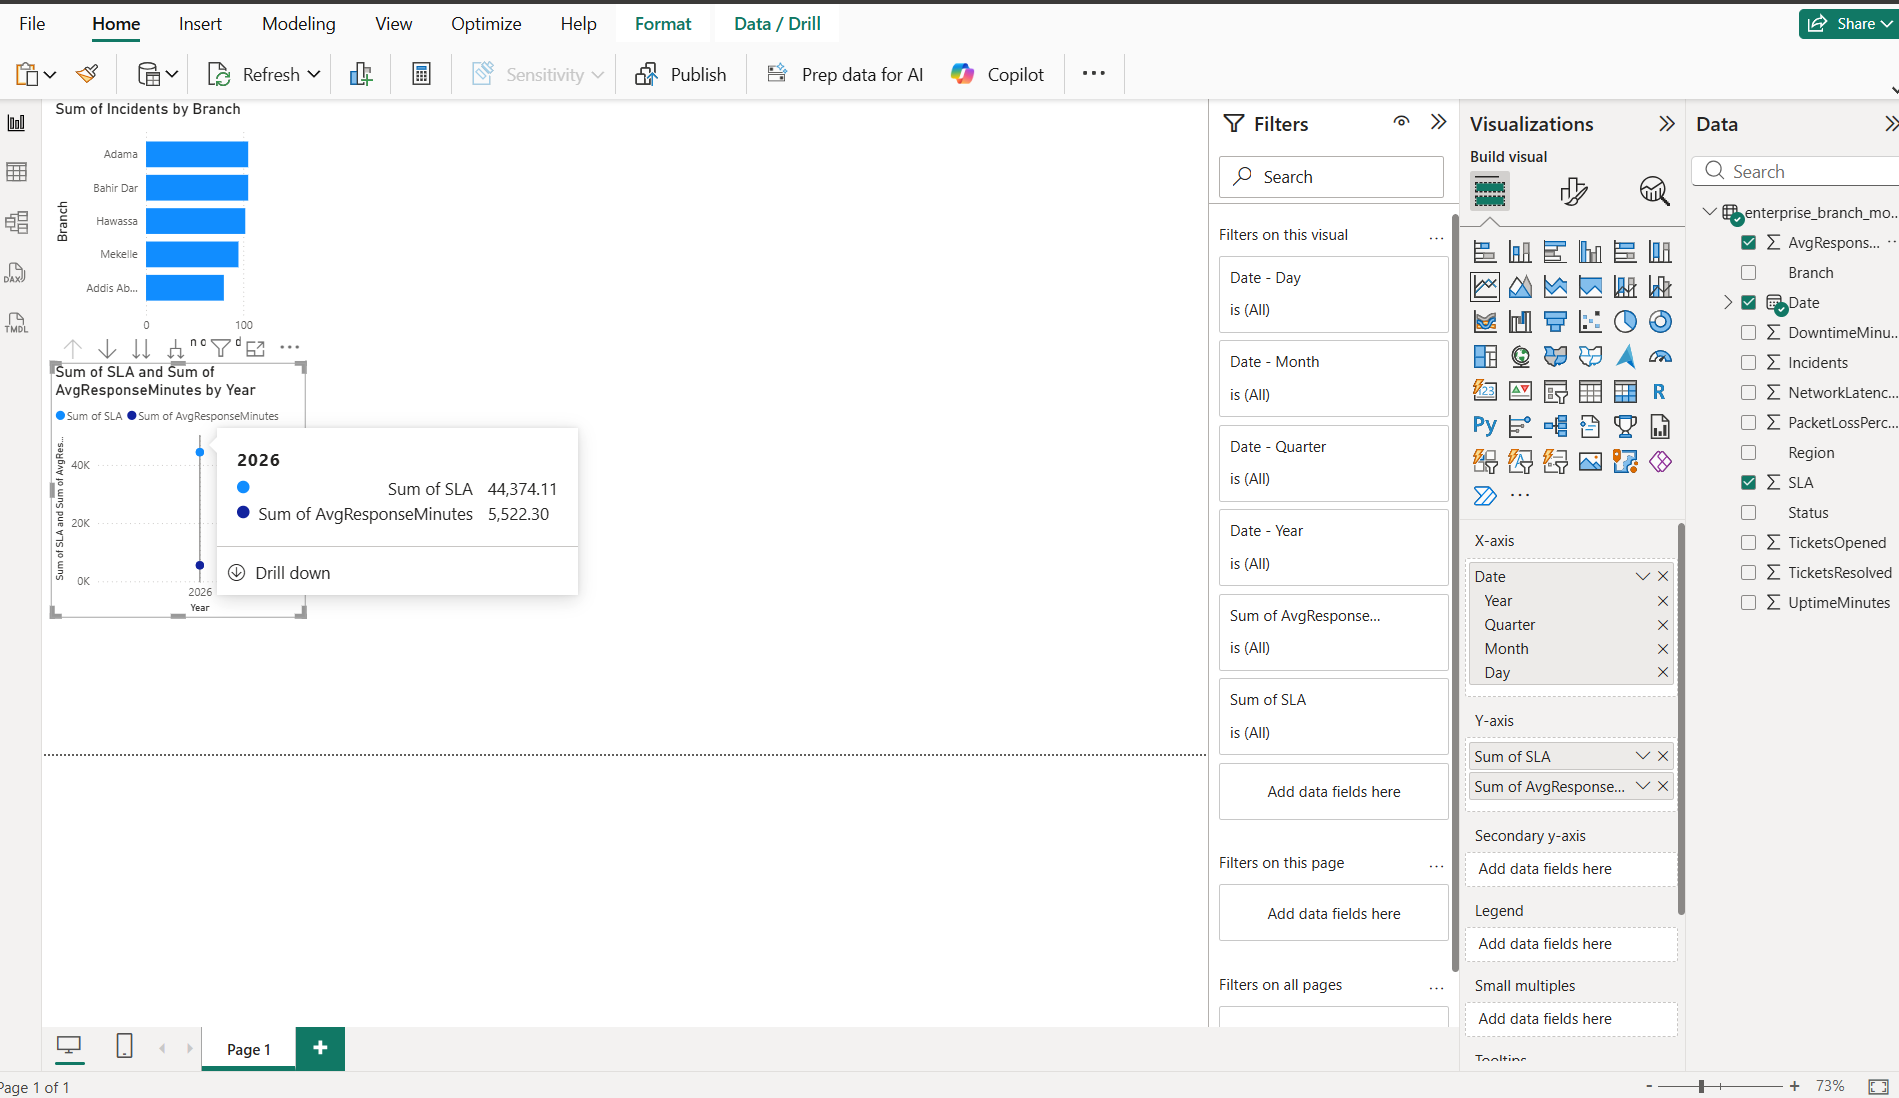

The dashboard page shown, as its layout file describes it:
{"tool":"powerbi","page":{"name":"Page 1","canvas":[1280,720],"ordinal":0},"visuals":[{"type":"clusteredBarChart","fields":{"Category":["enterprise_branch_monitoring_dataset.Branch"],"Y":["Sum(enterprise_branch_monitoring_dataset.Incidents)"]},"box":[10,0,280,280],"z":0},{"type":"lineChart","fields":{"Y":["Sum(enterprise_branch_monitoring_dataset.SLA)","Sum(enterprise_branch_monitoring_dataset.AvgResponseMinutes)"],"Category":["enterprise_branch_monitoring_dataset.Date.Variation.Date Hierarchy.Year","enterprise_branch_monitoring_dataset.Date.Variation.Date Hierarchy.Quarter","enterprise_branch_monitoring_dataset.Date.Variation.Date Hierarchy.Month","enterprise_branch_monitoring_dataset.Date.Variation.Date Hierarchy.Day"]},"box":[10,290,280,280],"z":1}]}

Visuals, with their boxes on the page's 1280x720 design canvas (x1, y1, x2, y2). These are canvas units, not pixel positions in the 1899x1098 screenshot, which may show the page scaled, cropped or inside an application window:
clusteredBarChart - enterprise_branch_monitoring_dataset.Branch x Sum(enterprise_branch_monitoring_dataset.Incidents): select_region(10, 0, 290, 280)
lineChart - Sum(enterprise_branch_monitoring_dataset.SLA) x Sum(enterprise_branch_monitoring_dataset.AvgResponseMinutes): select_region(10, 290, 290, 570)
